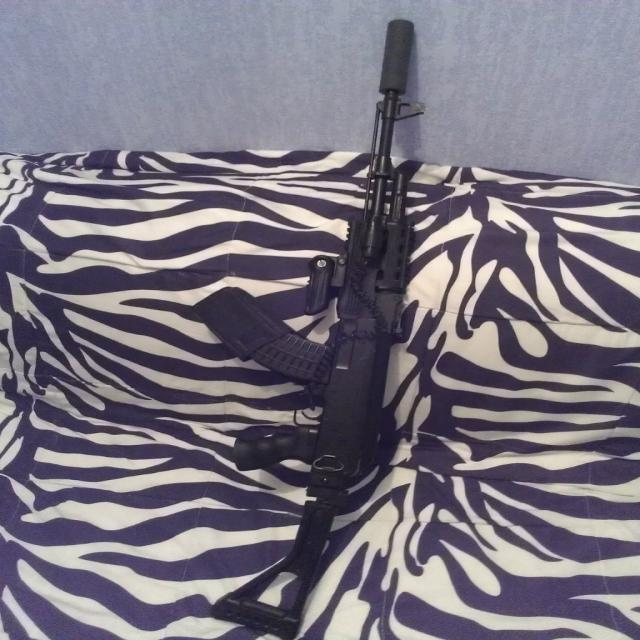firearm: (196, 13, 428, 636)
